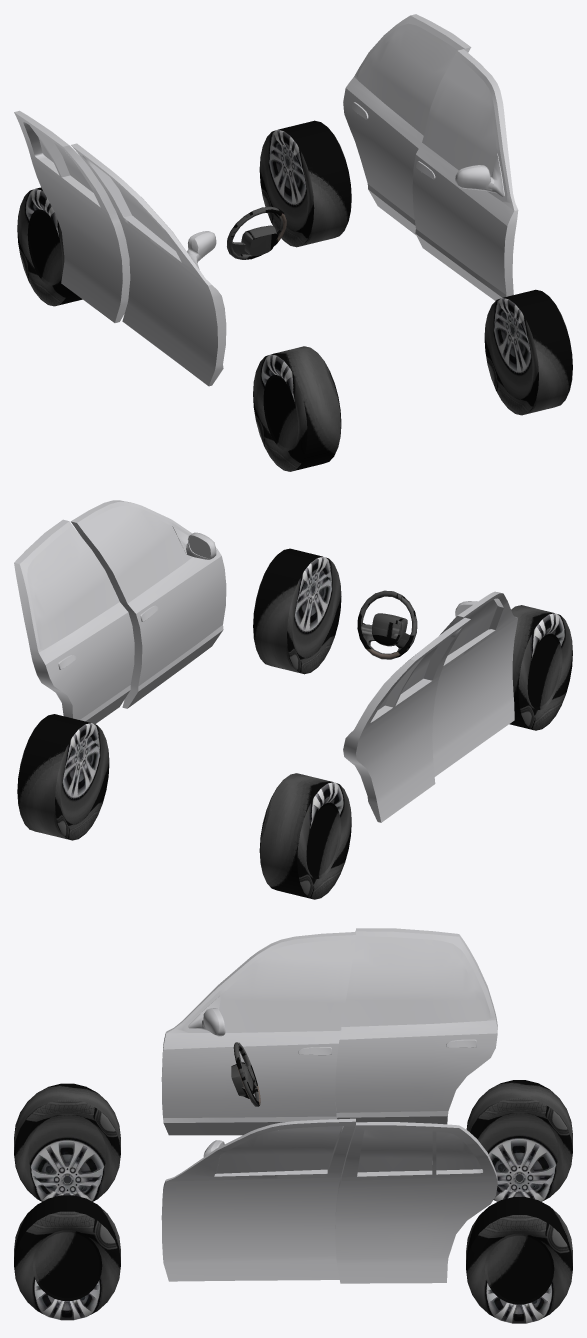
File: Car_Sedan.glb
3 views of the same model, one above another, from view 1: azimuth 30°, elevation 25°; view 2: azimuth 150°, elevation 25°; view 3: azimuth 270°, elevation 25° (orthographic).
Visible parts, largest first — view 1: Car_Sedan; view 2: Car_Sedan; view 3: Car_Sedan.
Boxes of the visible parts, box(x1,y1,x2,y2) form: Car_Sedan: box(14, 14, 572, 471); Car_Sedan: box(14, 500, 572, 899); Car_Sedan: box(14, 928, 572, 1323).
Bounding box in the file's own units: 22.85 × 12.41 × 27.37.
3 materials, 2 textured.
